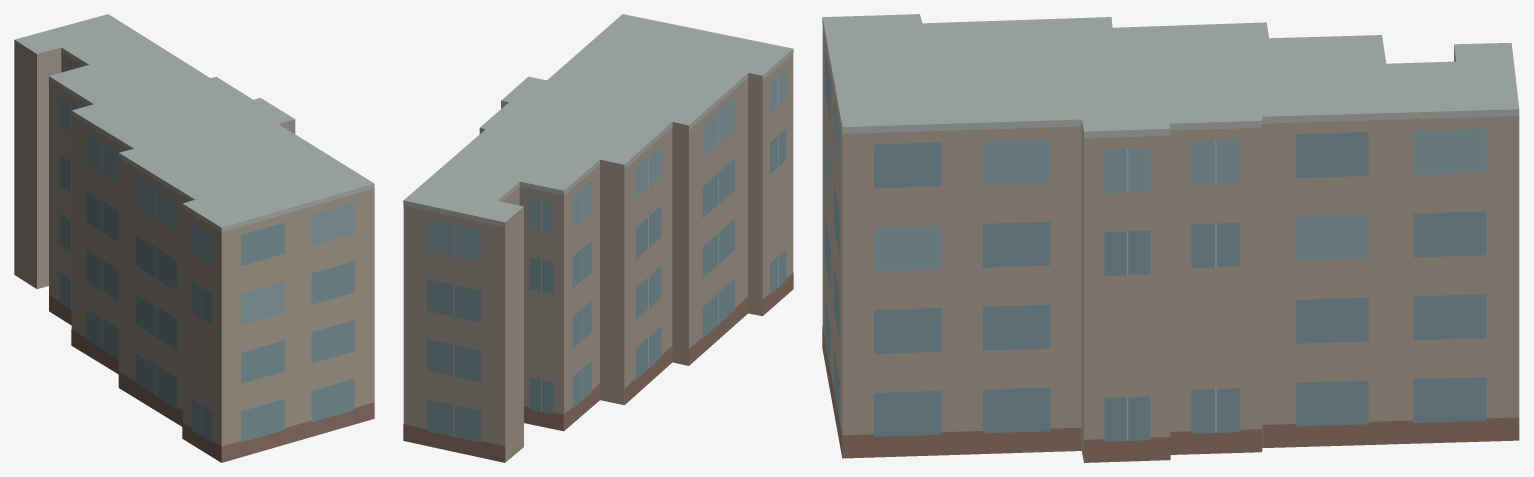
File: survey-upis-32905429.glb
3 views of the same model, side by side, from view 1: azimuth 30°, elevation 25°; view 2: azimuth 150°, elevation 25°; view 3: azimuth 270°, elevation 25° (orthographic). The views are drawn at different scales.
Parts seen in each view (by area): view 1: survey-upis-32905429.tmp; view 2: survey-upis-32905429.tmp; view 3: survey-upis-32905429.tmp.
Boxes of the visible parts, x1,y1,x2,y2 form: survey-upis-32905429.tmp: (14,14,374,462); survey-upis-32905429.tmp: (403,14,793,462); survey-upis-32905429.tmp: (822,14,1519,462).
Bounding box in the file's own units: 8.99 × 11.8 × 22.51.
